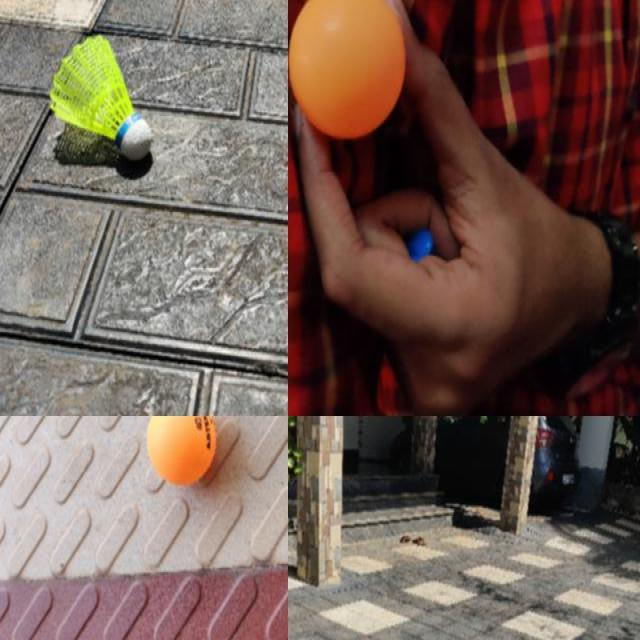ping-pong-ball: (289, 0, 405, 137), (147, 416, 216, 488)
